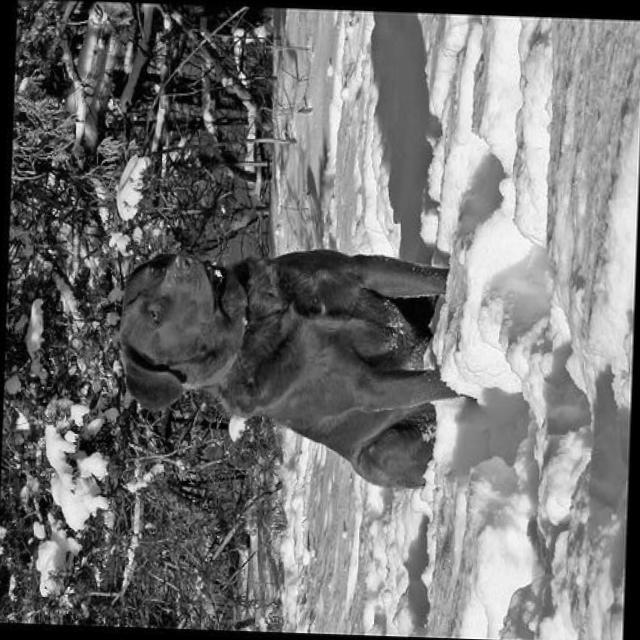sitting: (104, 230, 478, 496)
